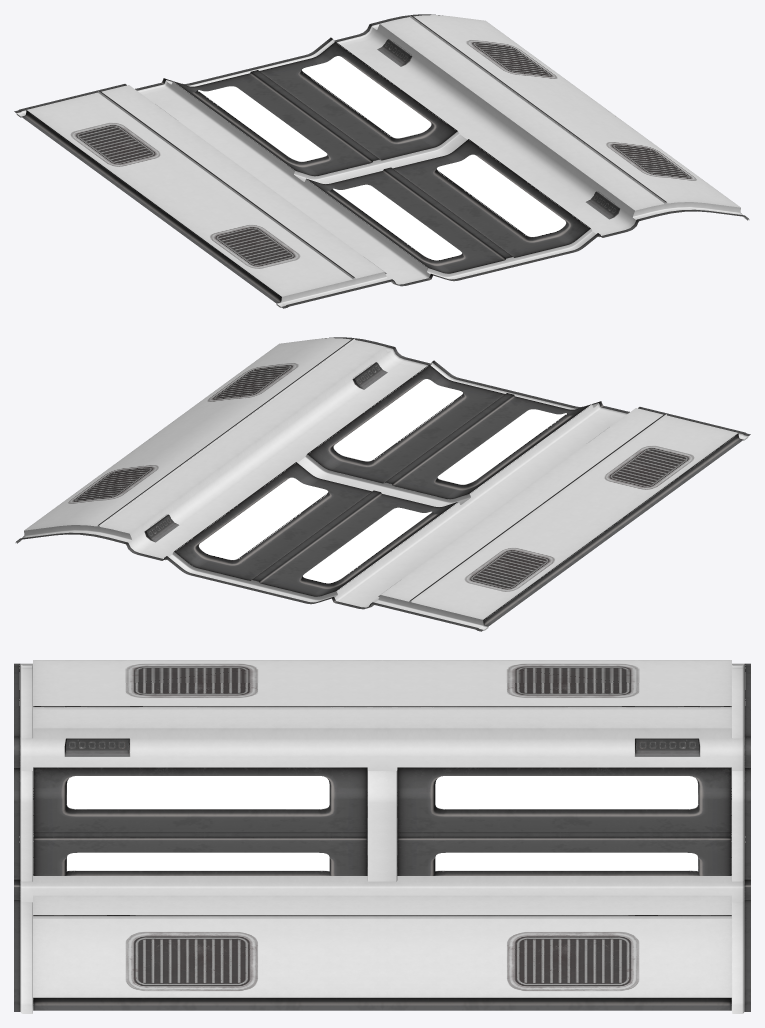
File: MCeiling01-350x350-2.FBX
3 renders of one model, top to bottom at view 1: azimuth 30°, elevation 25°; view 2: azimuth 150°, elevation 25°; view 3: azimuth 270°, elevation 25°, orthographic. The views are drawn at different scales.
Visible parts, largest first — view 1: MCeiling01-350x350-2; view 2: MCeiling01-350x350-2; view 3: MCeiling01-350x350-2.
Boxes of the visible parts, <box> form: MCeiling01-350x350-2: <box>14,14,749,308</box>; MCeiling01-350x350-2: <box>15,337,750,631</box>; MCeiling01-350x350-2: <box>14,660,750,1013</box>.
Size of what is drawn, in the model's own units: 3.51 by 0.25 by 3.5.
